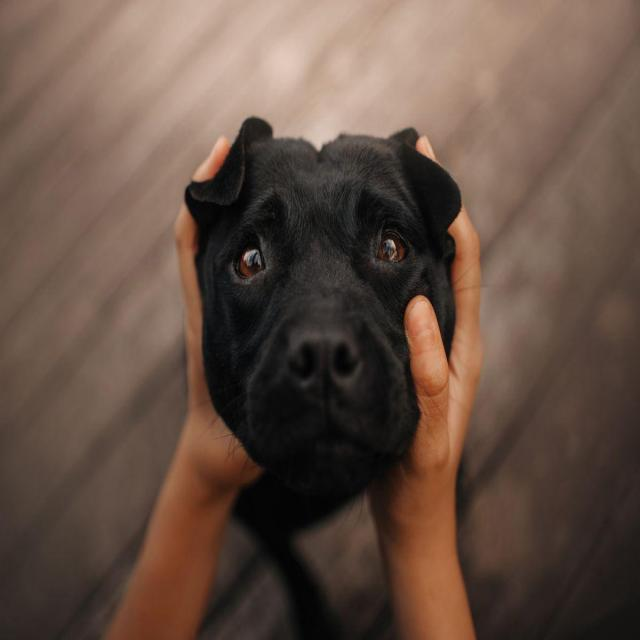Dog: (180, 103, 474, 507)
